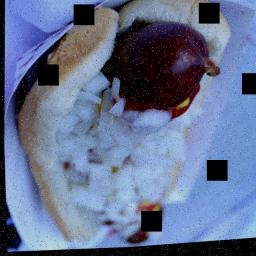hotdog: (112, 14, 224, 131)
